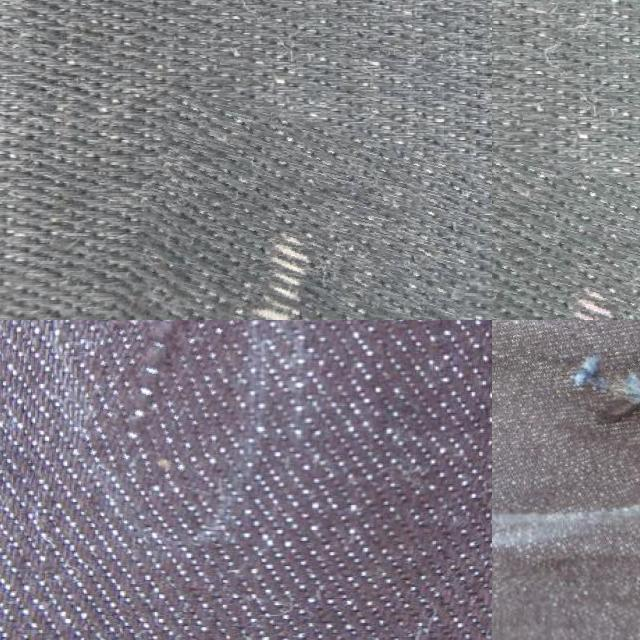stains: (117, 104, 479, 320), (90, 320, 248, 484), (492, 159, 640, 320), (492, 320, 640, 456)
